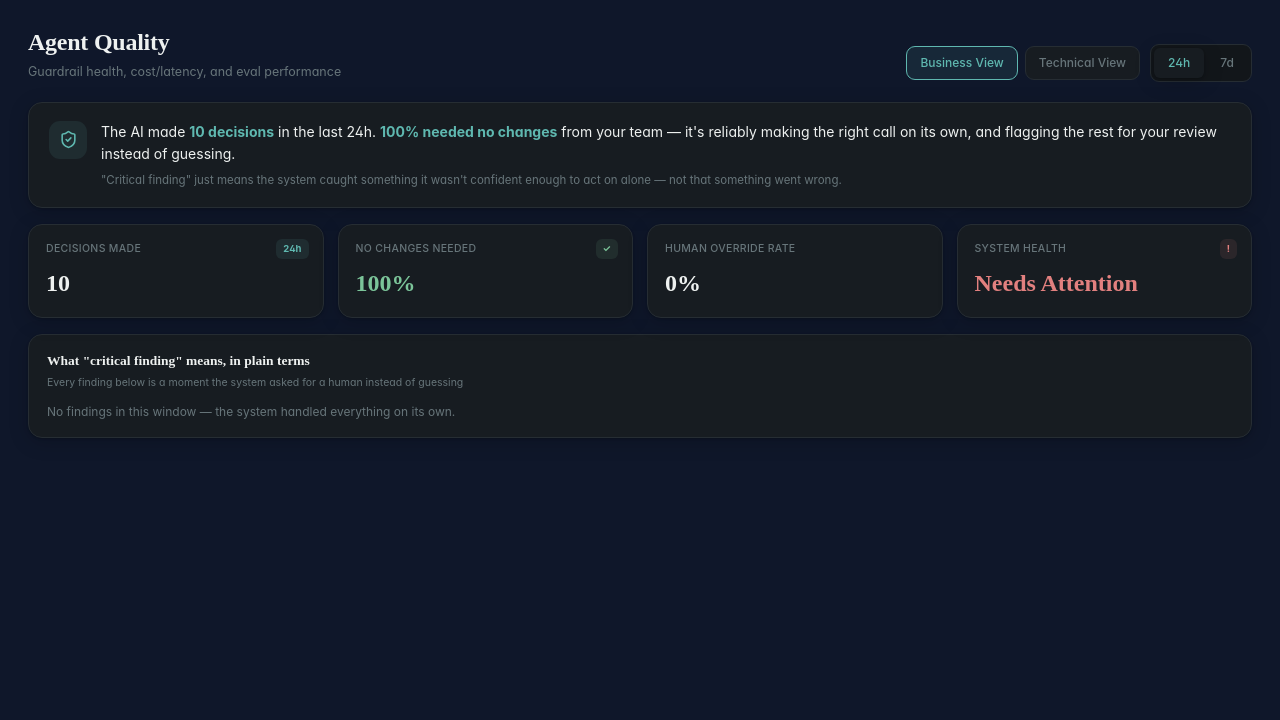
Test case: AgentQuality › shows the critical-findings banner when critical findings exist
This screenshot has width=1280, height=720.
Click the button "Technical View".
click(1082, 63)  # box [1025,46,1140,80]
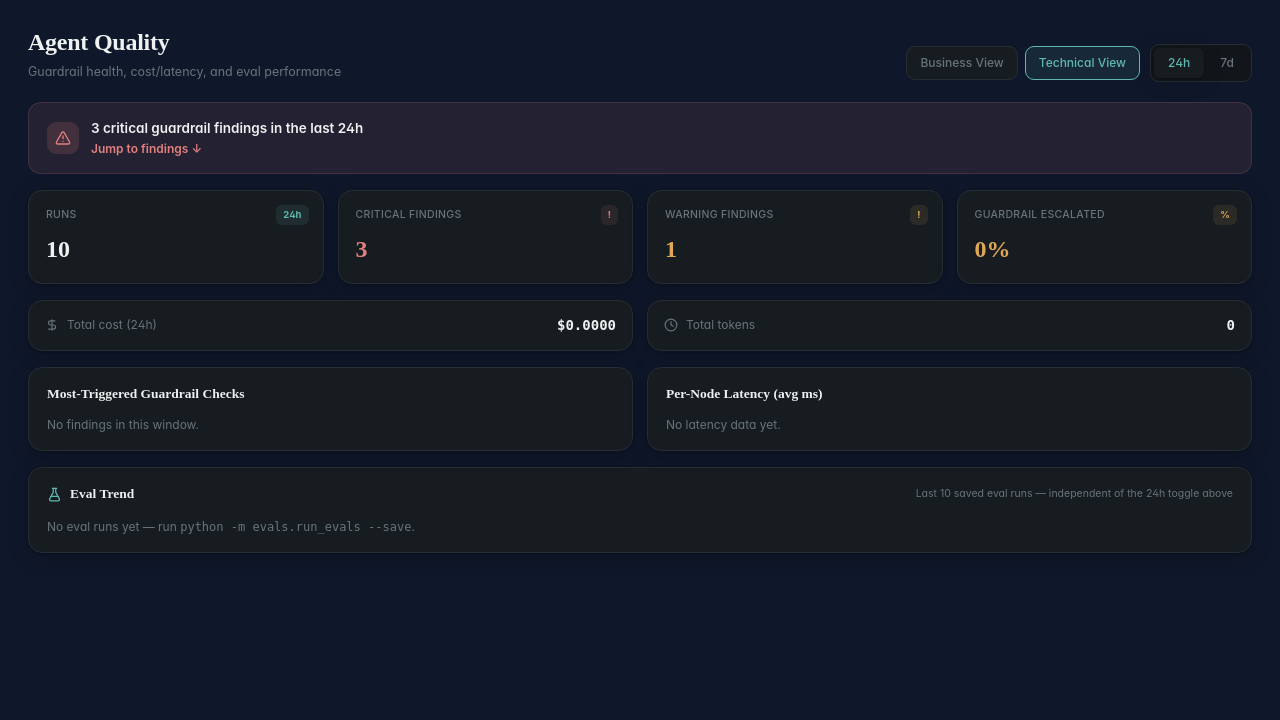
Expected: the text "3 critical guardrail findings in the last 24h" is shown, [91,118,363,138]
